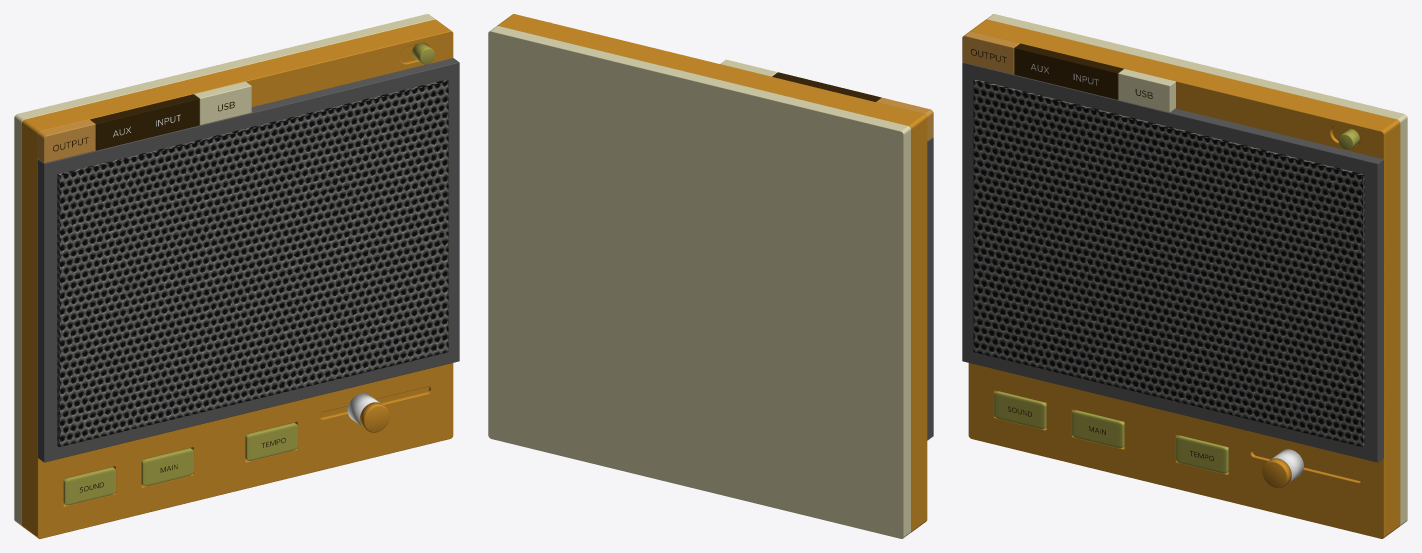
File: Mixer_speaker_color.glb
3 views of the same model, side by side, from view 1: azimuth 30°, elevation 25°; view 2: azimuth 150°, elevation 25°; view 3: azimuth 330°, elevation 25° (orthographic).
Visible parts, largest first — view 1: baseSpeakersound, baseSpeakerpanel, baseSpeakerframe, baseSpeaker, baseSpeakerauxinput, baseSpeakeroutput, baseSpeakerusb, btnSpeakerSound, btnSpeakermain, btnSpeakertempo, faderSpeakertop; view 2: baseSpeaker, baseSpeakerpanel, baseSpeakerframe, baseSpeakerauxinput, baseSpeakeroutput; view 3: baseSpeakersound, baseSpeakerpanel, baseSpeakerframe, baseSpeaker, baseSpeakerauxinput, baseSpeakerusb, baseSpeakeroutput, btnSpeakerSound, btnSpeakertempo, btnSpeakermain, faderSpeakertop.
Boxes of the visible parts, bbox=[...] form: baseSpeakersound: bbox=[57, 79, 448, 446]; baseSpeakerpanel: bbox=[21, 19, 453, 538]; baseSpeakerframe: bbox=[38, 58, 459, 462]; baseSpeaker: bbox=[14, 14, 435, 525]; baseSpeakerauxinput: bbox=[90, 94, 199, 150]; baseSpeakeroutput: bbox=[38, 119, 95, 163]; baseSpeakerusb: bbox=[194, 81, 251, 125]; btnSpeakerSound: bbox=[63, 467, 115, 505]; btnSpeakermain: bbox=[141, 448, 193, 486]; btnSpeakertempo: bbox=[245, 422, 297, 460]; faderSpeakertop: bbox=[359, 402, 389, 432]; baseSpeaker: bbox=[488, 26, 910, 538]; baseSpeakerpanel: bbox=[497, 14, 927, 532]; baseSpeakerframe: bbox=[927, 137, 933, 440]; baseSpeakerauxinput: bbox=[772, 72, 881, 101]; baseSpeakeroutput: bbox=[876, 97, 933, 141]; baseSpeakersound: bbox=[973, 79, 1364, 446]; baseSpeakerpanel: bbox=[968, 19, 1400, 538]; baseSpeakerframe: bbox=[962, 62, 1383, 462]; baseSpeaker: bbox=[986, 14, 1407, 525]; baseSpeakerauxinput: bbox=[1014, 43, 1123, 99]; baseSpeakerusb: bbox=[1118, 69, 1175, 112]; baseSpeakeroutput: bbox=[962, 31, 1019, 74]; btnSpeakerSound: bbox=[994, 391, 1046, 429]; btnSpeakertempo: bbox=[1176, 435, 1228, 473]; btnSpeakermain: bbox=[1072, 410, 1124, 448]; faderSpeakertop: bbox=[1262, 458, 1291, 488].
Size of the model in its own units: 1.28 by 1.2 by 0.2147.
12 materials, 1 textured.
